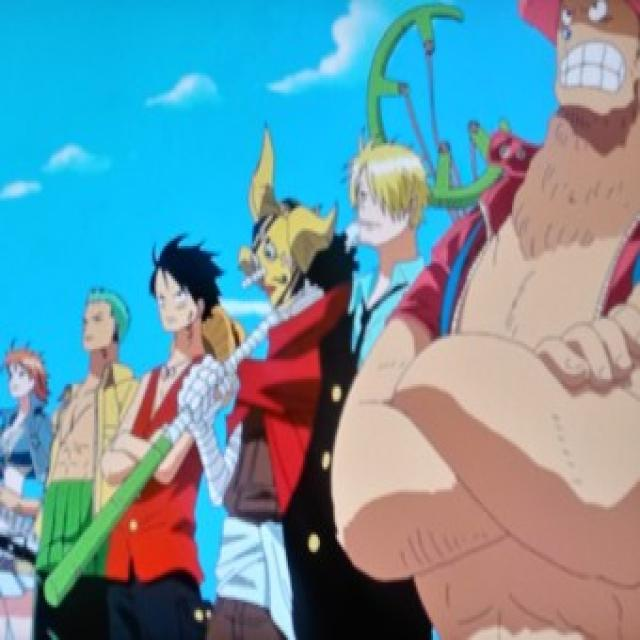Chyopa: (516, 0, 639, 124)
Luffy: (140, 227, 226, 341)
Nami: (0, 344, 60, 407)
Sangdi: (342, 132, 431, 265)
Usopp: (236, 111, 341, 319)
Zoro: (72, 276, 131, 371)
